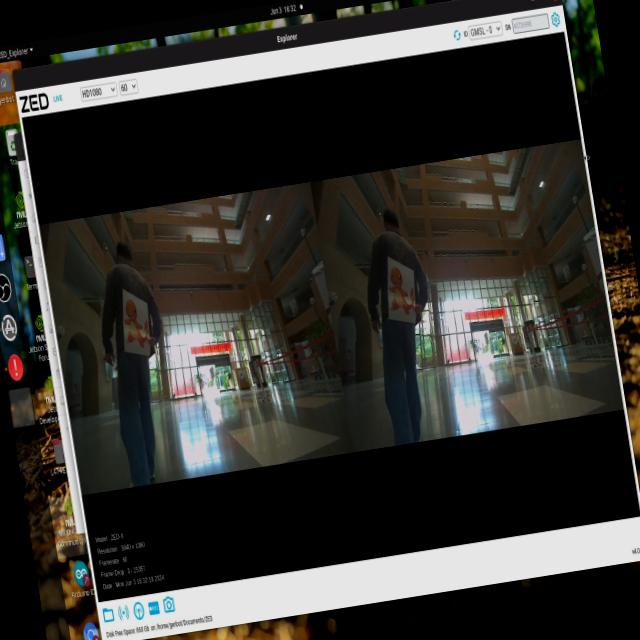red: (376, 252, 428, 334), (108, 282, 159, 364)
